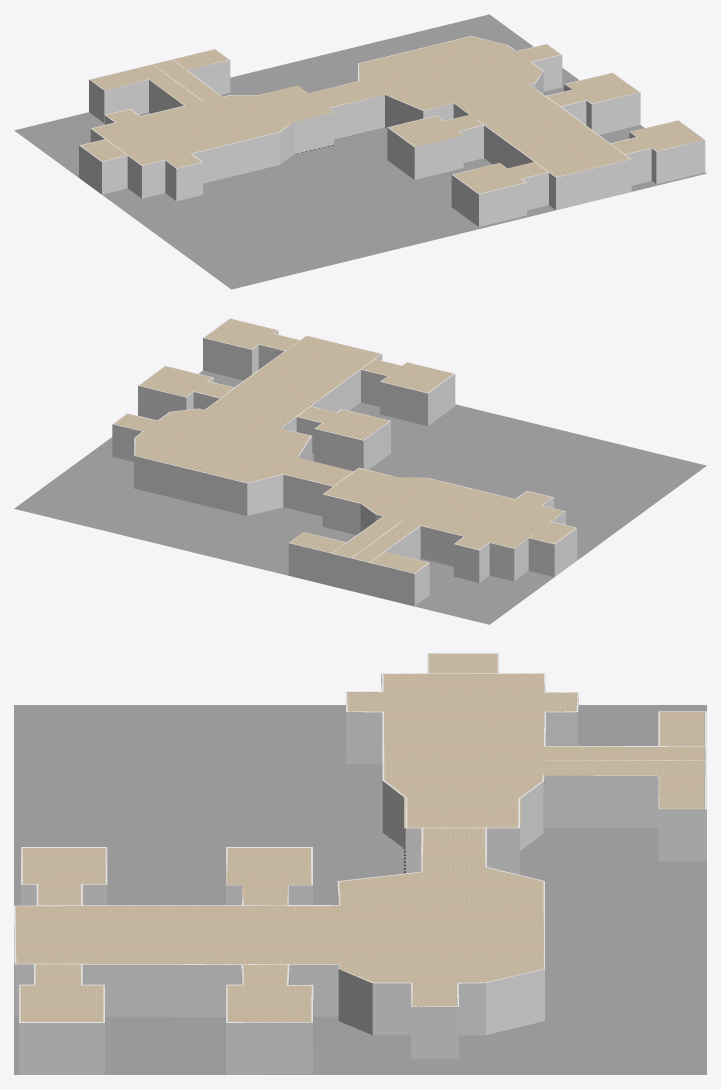
The model's file is ModelLv2.obj.
The picture shows the model from 3 angles, top to bottom: view 1: azimuth 30°, elevation 25°; view 2: azimuth 150°, elevation 25°; view 3: azimuth 270°, elevation 25°; orthographic projection. The views are drawn at different scales.
Visible parts, largest first — view 1: ground_1, room_91_507, room_92_509, room_83_491, wall_21_124, wall_46_274, room_89_503, room_90_505, room_86_497, wall_50_298, wall_72_430, wall_79_473 (+27 smaller); view 2: ground_1, room_91_507, room_92_509, room_83_491, wall_28_166, room_89_503, room_90_505, room_86_497, wall_75_448, wall_70_418, wall_65_388, wall_54_323 (+26 smaller); view 3: ground_1, room_91_507, room_92_509, room_83_491, wall_45_268, wall_14_82, room_89_503, room_90_505, room_86_497, wall_41_244, wall_71_424, room_97_519 (+24 smaller).
Boxes of the visible parts, x1,y1,x2,y2 form: ground_1: (14, 14, 706, 289); room_91_507: (309, 44, 560, 110); room_92_509: (455, 84, 629, 176); room_83_491: (92, 95, 278, 165); wall_21_124: (192, 132, 279, 183); wall_46_274: (556, 159, 631, 210); room_89_503: (230, 85, 333, 131); room_90_505: (359, 36, 505, 80); room_86_497: (135, 60, 221, 105); wall_50_298: (329, 95, 384, 139); wall_72_430: (656, 140, 705, 184); wall_79_473: (414, 135, 463, 179); ground_1: (14, 370, 706, 624); room_91_507: (114, 408, 353, 486); room_92_509: (206, 335, 380, 427); room_83_491: (378, 477, 564, 548); wall_28_166: (134, 456, 247, 515); room_89_503: (323, 467, 426, 514); room_90_505: (135, 438, 281, 482); room_86_497: (333, 516, 419, 561); wall_75_448: (314, 429, 363, 470); wall_70_418: (203, 338, 251, 380); wall_65_388: (380, 382, 427, 425); wall_54_323: (369, 563, 414, 606); ground_1: (14, 705, 706, 1074); room_91_507: (338, 828, 486, 1006); room_92_509: (15, 906, 338, 964); room_83_491: (382, 673, 543, 780); wall_45_268: (14, 964, 241, 1016); wall_14_82: (544, 775, 704, 828); room_89_503: (385, 780, 541, 828); room_90_505: (486, 868, 543, 981); room_86_497: (544, 746, 704, 775); wall_41_244: (226, 1022, 312, 1074); wall_71_424: (19, 1023, 104, 1074); room_97_519: (226, 985, 311, 1021).
Size of the model in its own units: 3810 by 250 by 3017.
5 materials, 2 textured.
